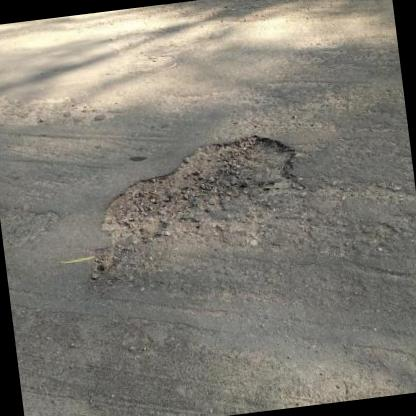pothole: (89, 127, 309, 246)
